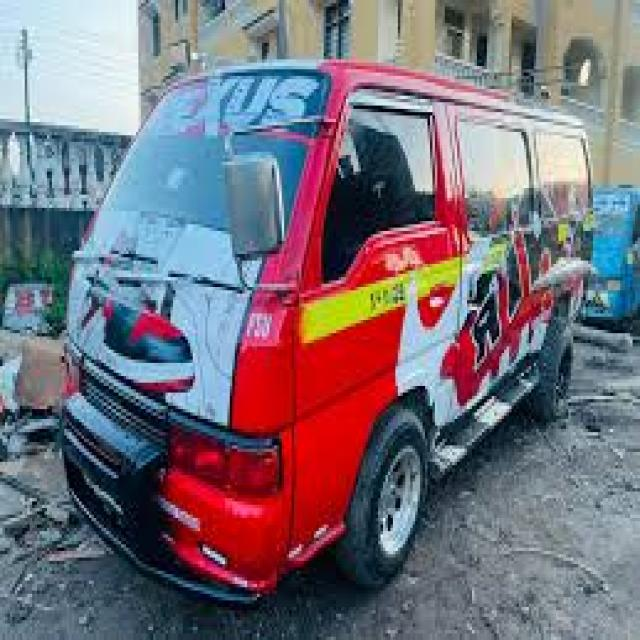matatu: (46, 9, 622, 632)
